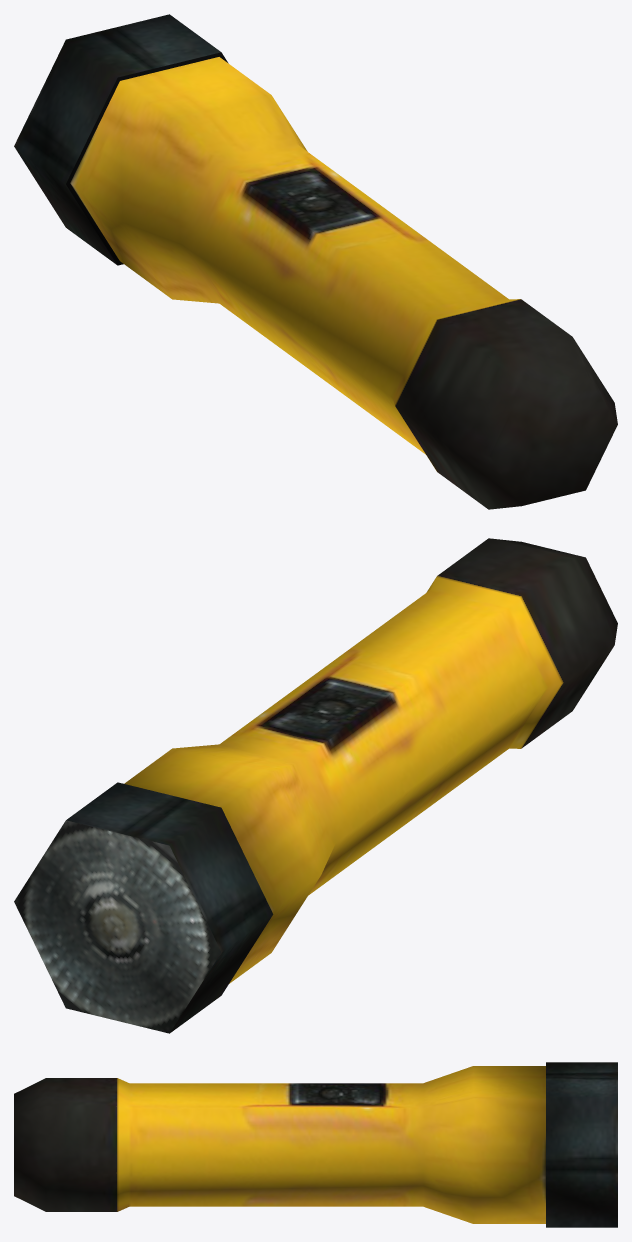
The model's file is Flashlight.glb.
The picture shows the model from 3 angles, top to bottom: view 1: azimuth 30°, elevation 25°; view 2: azimuth 150°, elevation 25°; view 3: azimuth 270°, elevation 25°; orthographic projection. The views are drawn at different scales.
Visible parts, largest first — view 1: Flashlight; view 2: Flashlight; view 3: Flashlight.
Part boxes in pixels (x1=…): Flashlight: x1=14, y1=14, x2=617, y2=509; Flashlight: x1=14, y1=538, x2=617, y2=1033; Flashlight: x1=14, y1=1062, x2=617, y2=1227.
Size of the model in its own units: 0.0678 by 0.0587 by 0.2469.
1 material, 1 textured.
